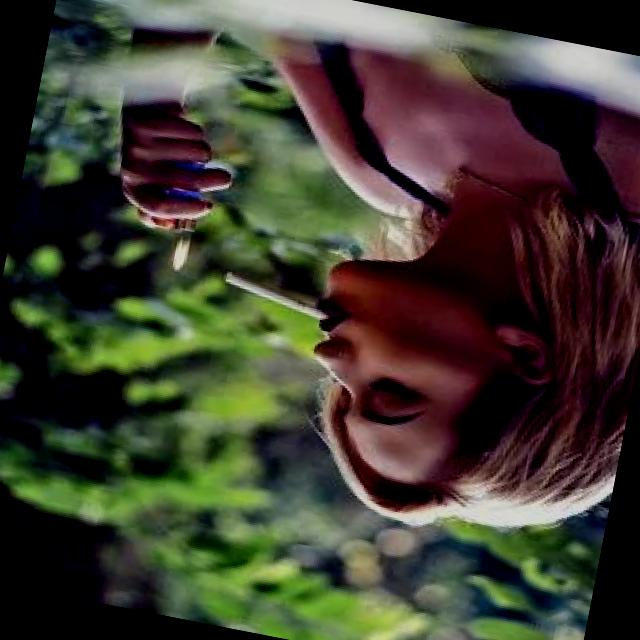smoke: (218, 269, 338, 328)
